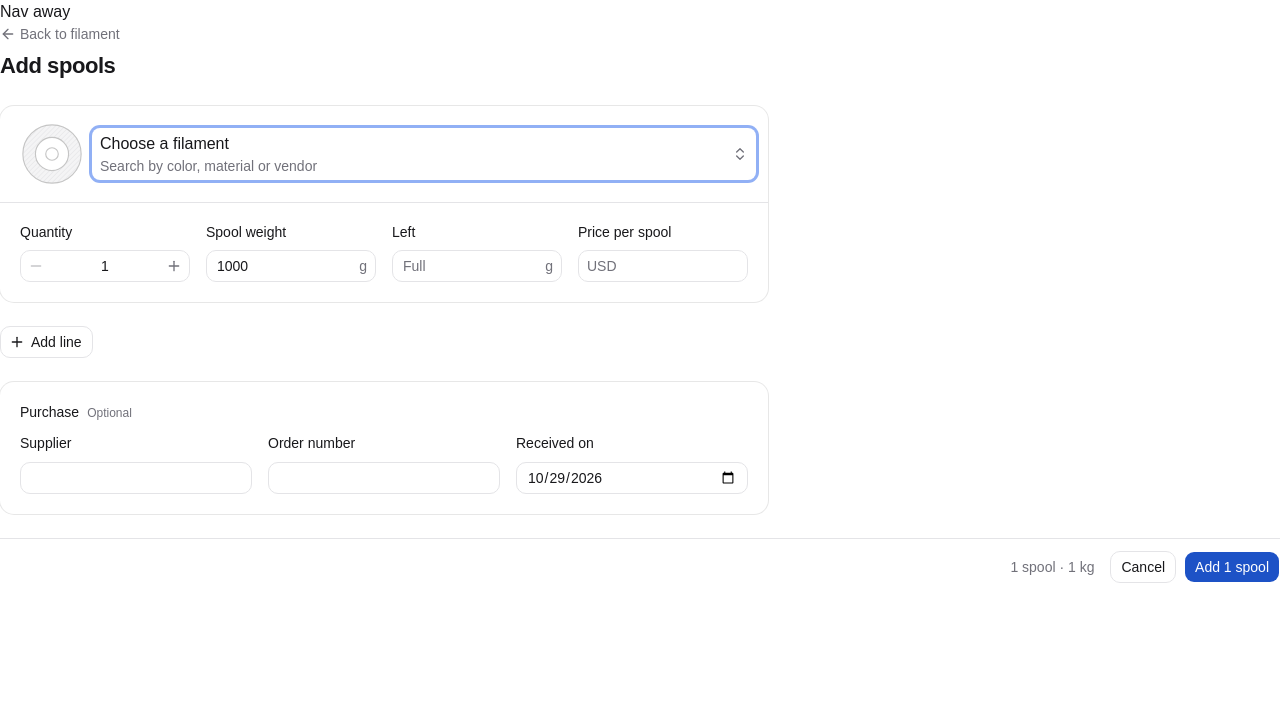
Test: SpoolFormPage › refuses a quantity of 0 and sends nothing
Click the dropdown labelled "Choose a filament Search by color, material or vendor": (164, 144) [92, 128, 756, 180]
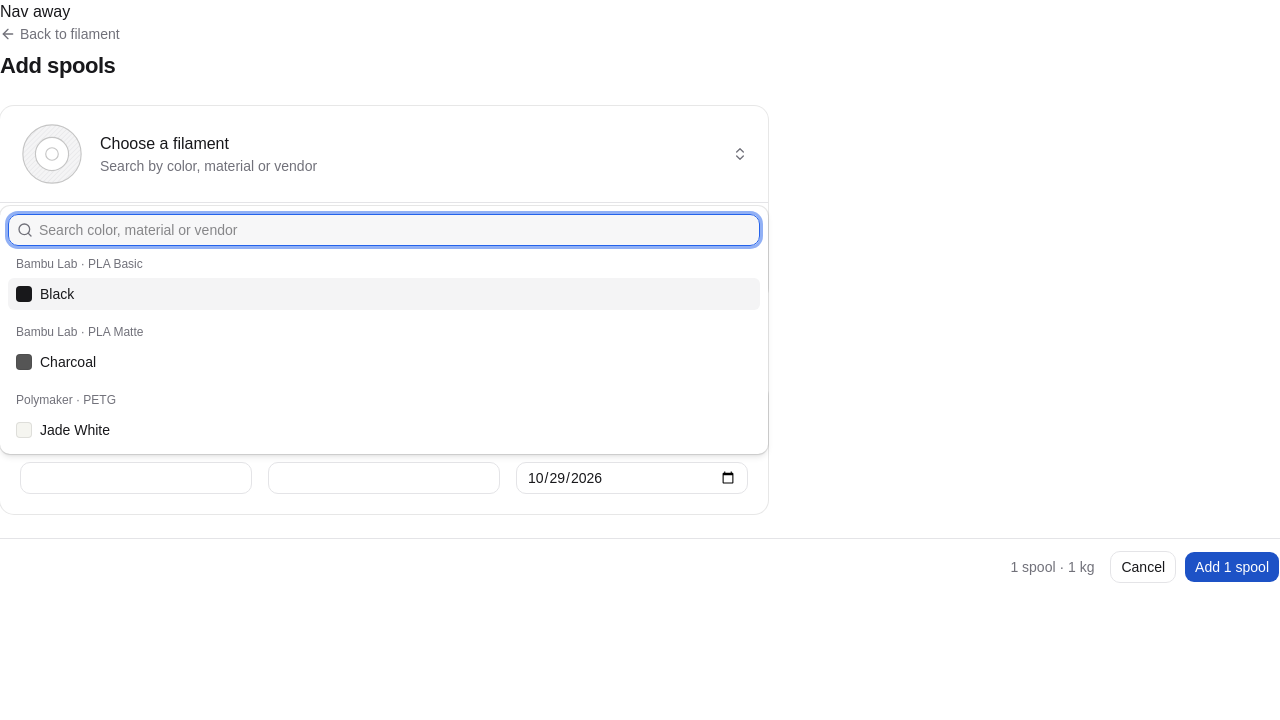
Click the option "Black": (57, 294) [8, 278, 760, 310]
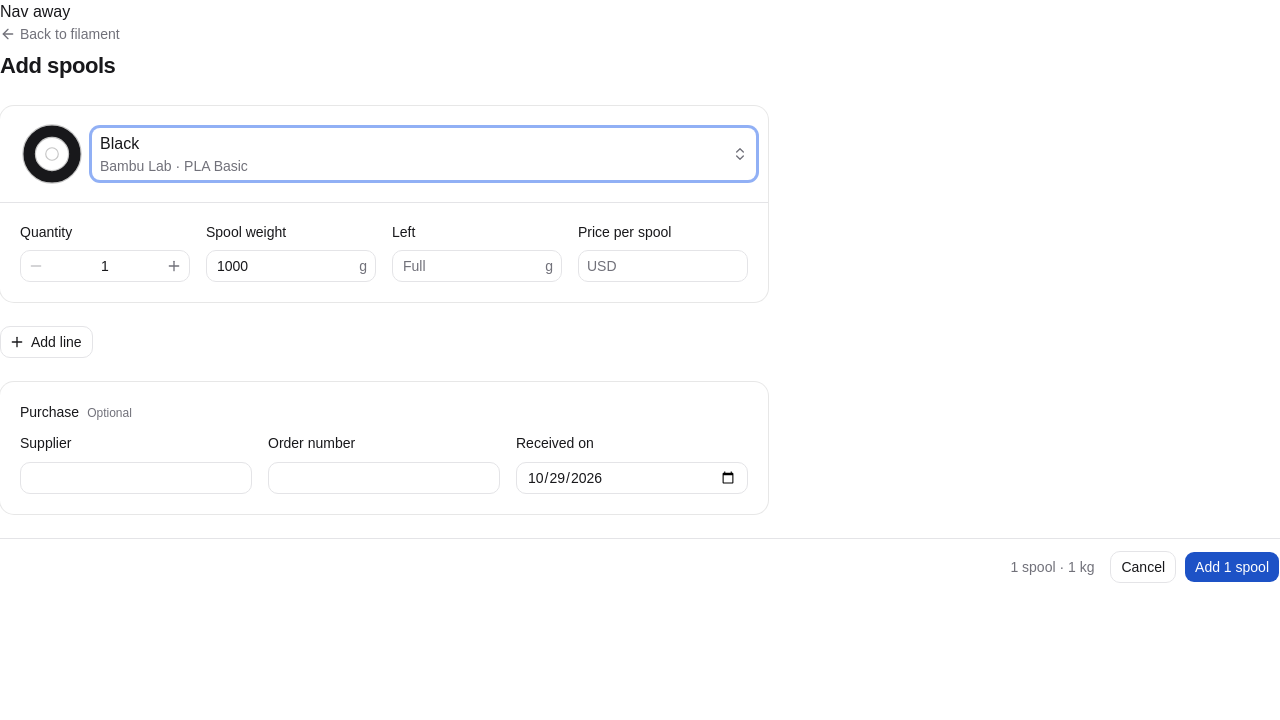
Replace the text in the number field labelled "Quantity" with "0": (105, 266) [48, 250, 162, 282]
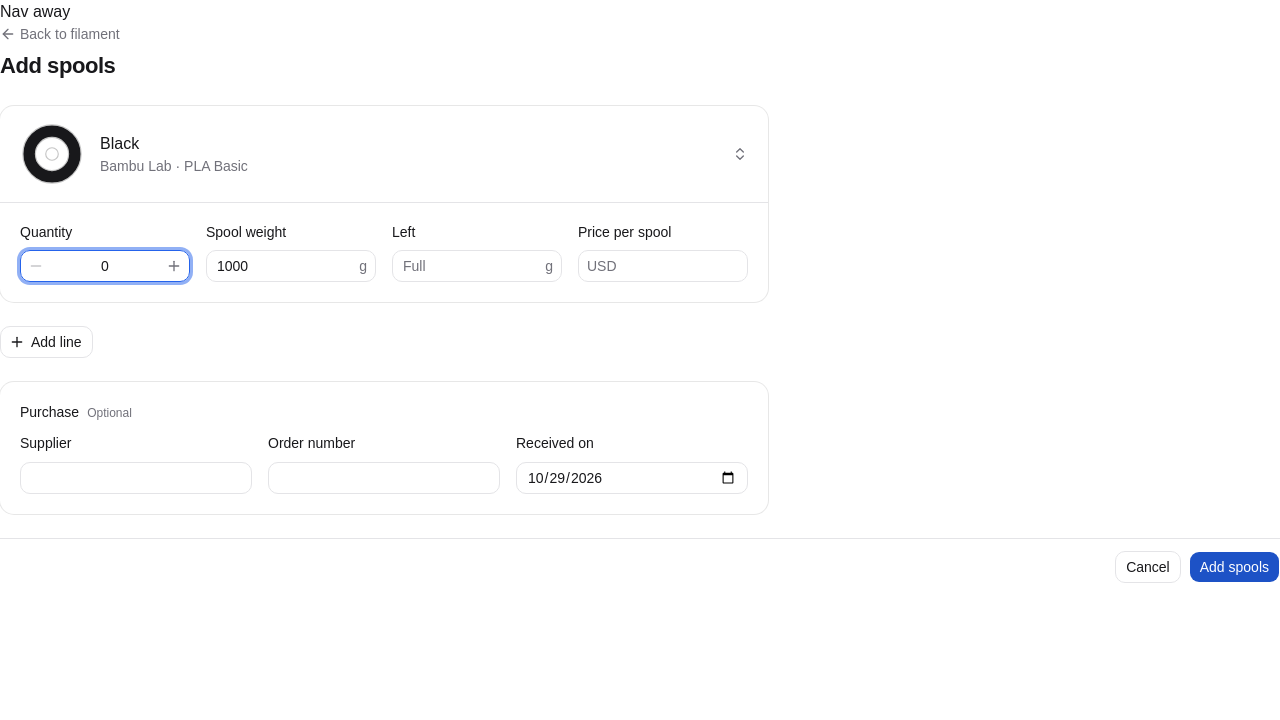
Click the button "Add spools": (1234, 566) [1189, 550, 1279, 582]
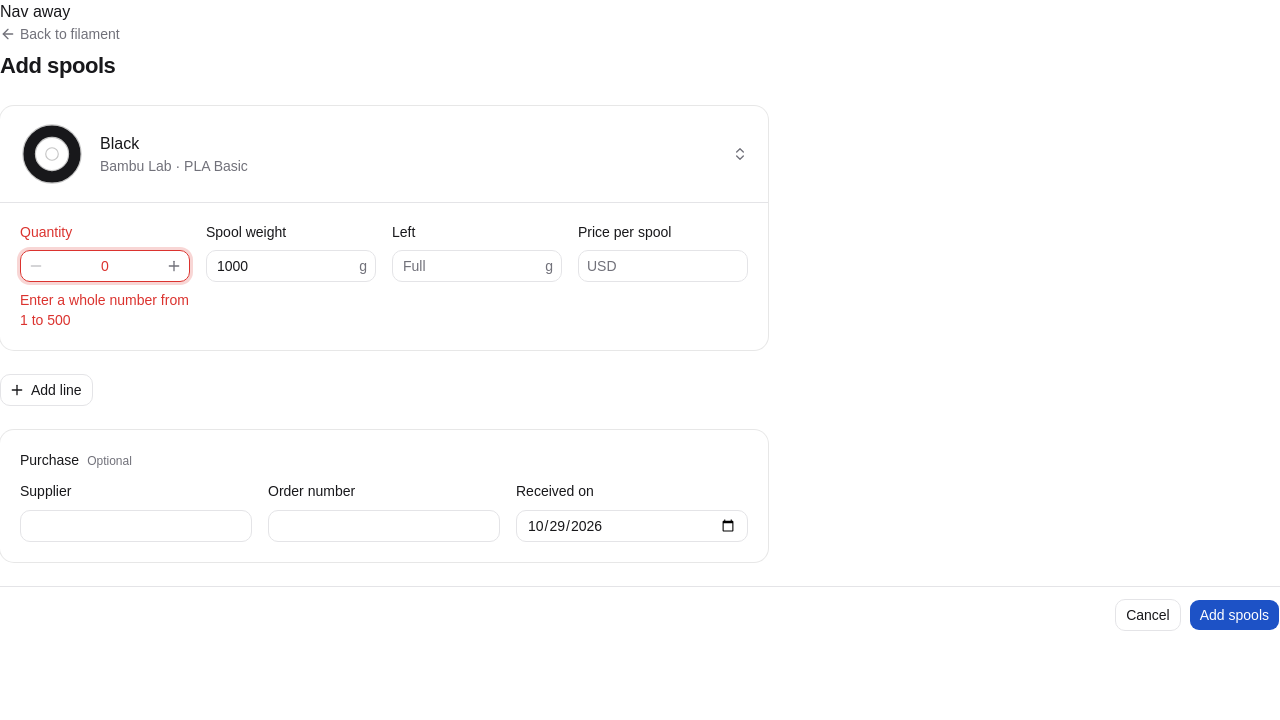
Expected: the text "Enter a whole number from 1 to 500" is shown, [20, 290, 190, 330]
